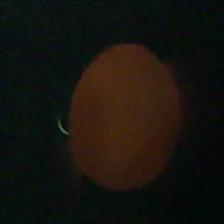fertile: (58, 32, 183, 190)
